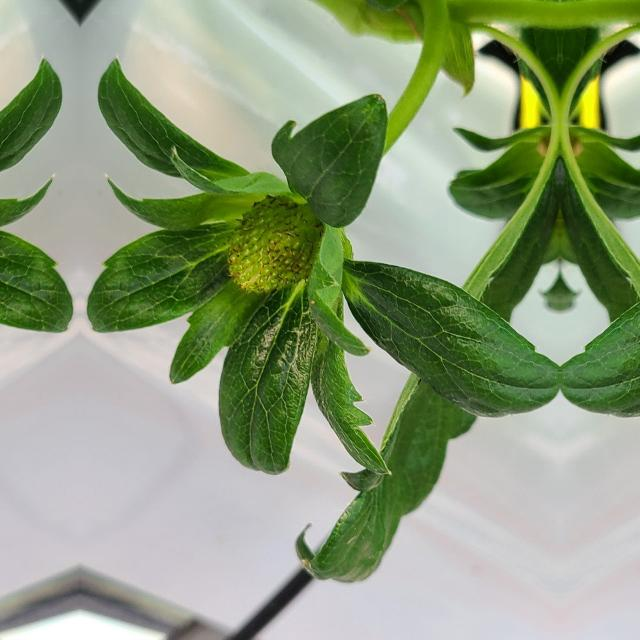Health_25: (228, 195, 324, 293)
